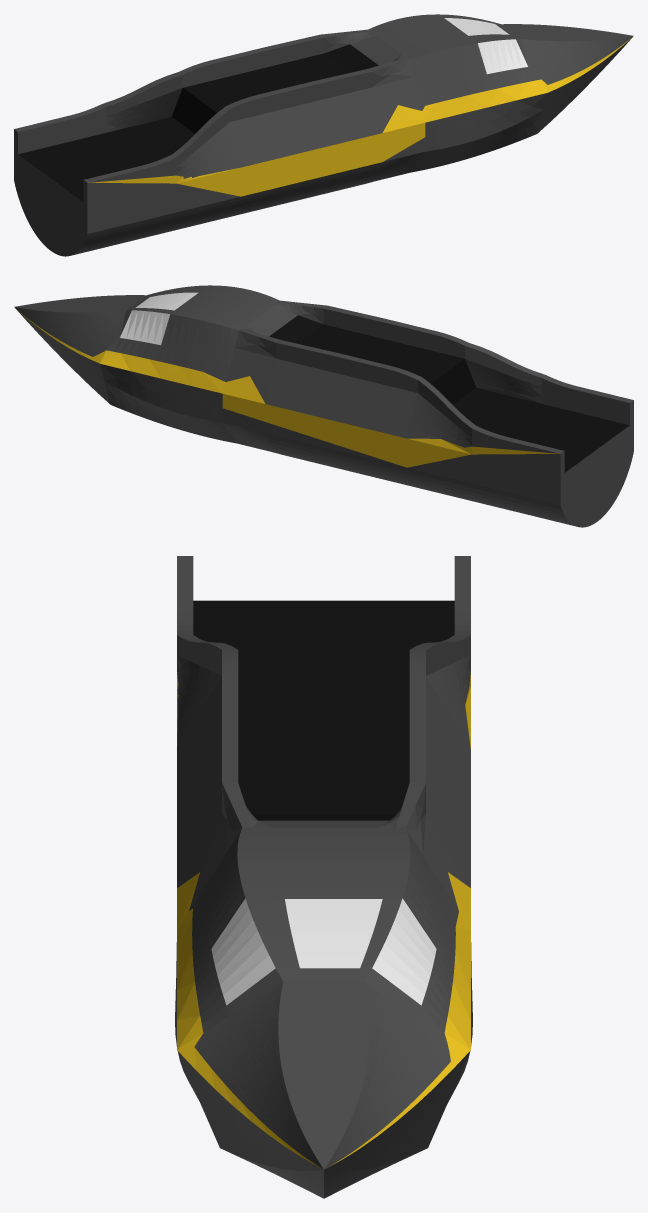
3 renders of one model, top to bottom at view 1: azimuth 30°, elevation 25°; view 2: azimuth 150°, elevation 25°; view 3: azimuth 270°, elevation 25°, orthographic. The views are drawn at different scales.
Parts seen in each view (by area): view 1: js; view 2: js; view 3: js.
Boxes of the visible parts, x1,y1,x2,y2 form: js: [14, 14, 633, 256]; js: [14, 285, 633, 527]; js: [175, 556, 472, 1198].
Bounding box in the file's own units: 16.5 × 3.65 × 3.42.
